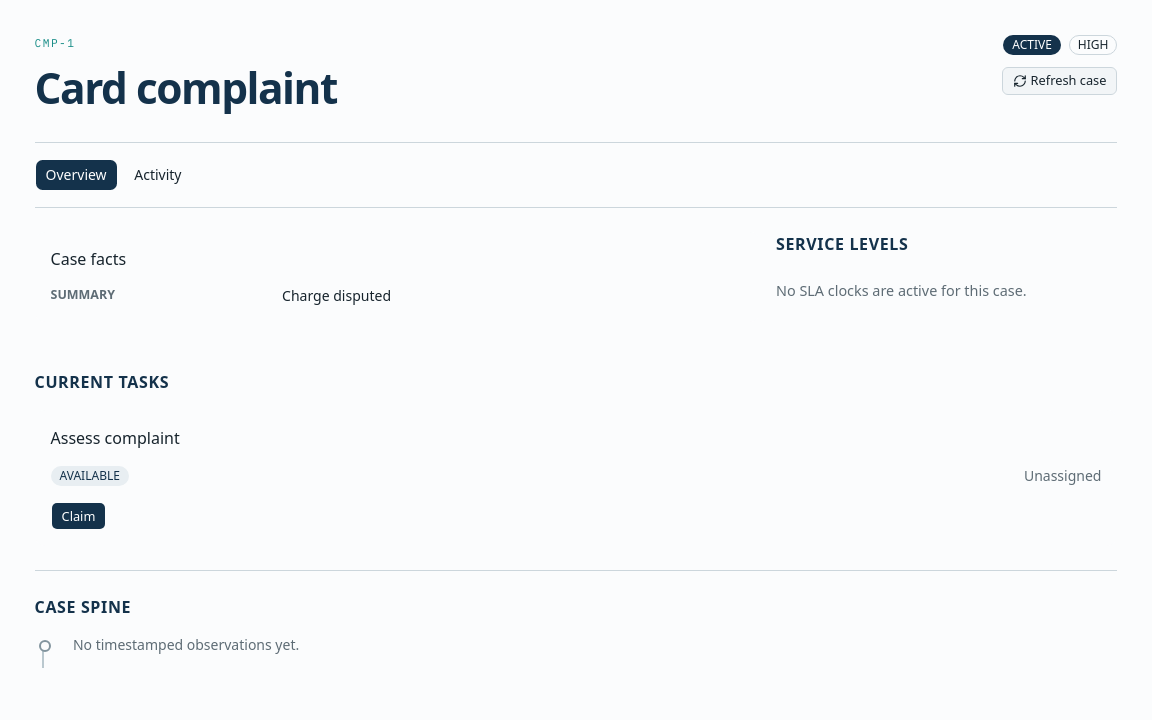
Test: case workspace › keeps the snapshot and contextual guidance for task status 403
Expected: the heading "Card complaint" is shown, top-left (34, 56), bottom-right (337, 120)
Click the button "Claim" at (78,516), box top-left (50, 502), bottom-right (106, 530)
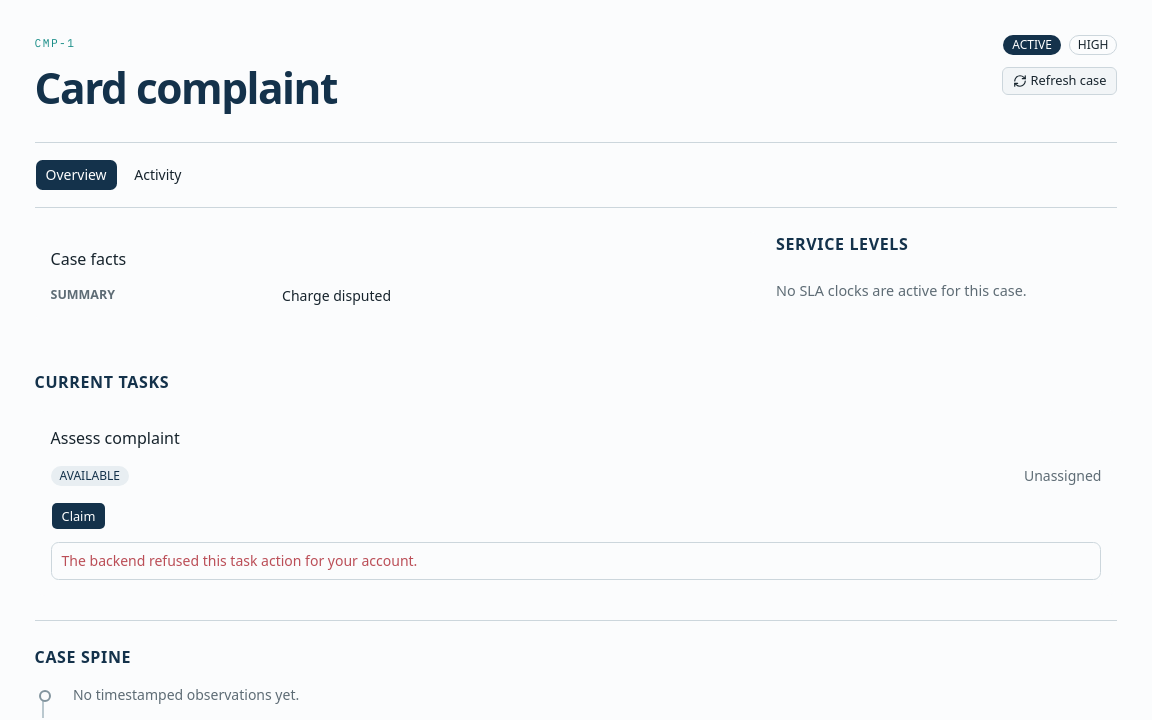
Expected: the heading "Card complaint" is shown, top-left (34, 56), bottom-right (337, 120)
Expected: the message reads "The backend refused this task action for your account.", top-left (62, 551), bottom-right (417, 570)
